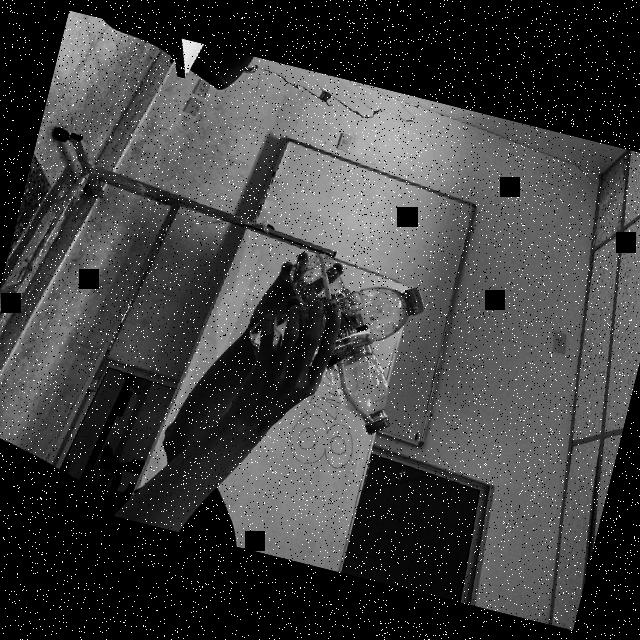plastic_bottle: (252, 242, 428, 441), (239, 250, 431, 402)
